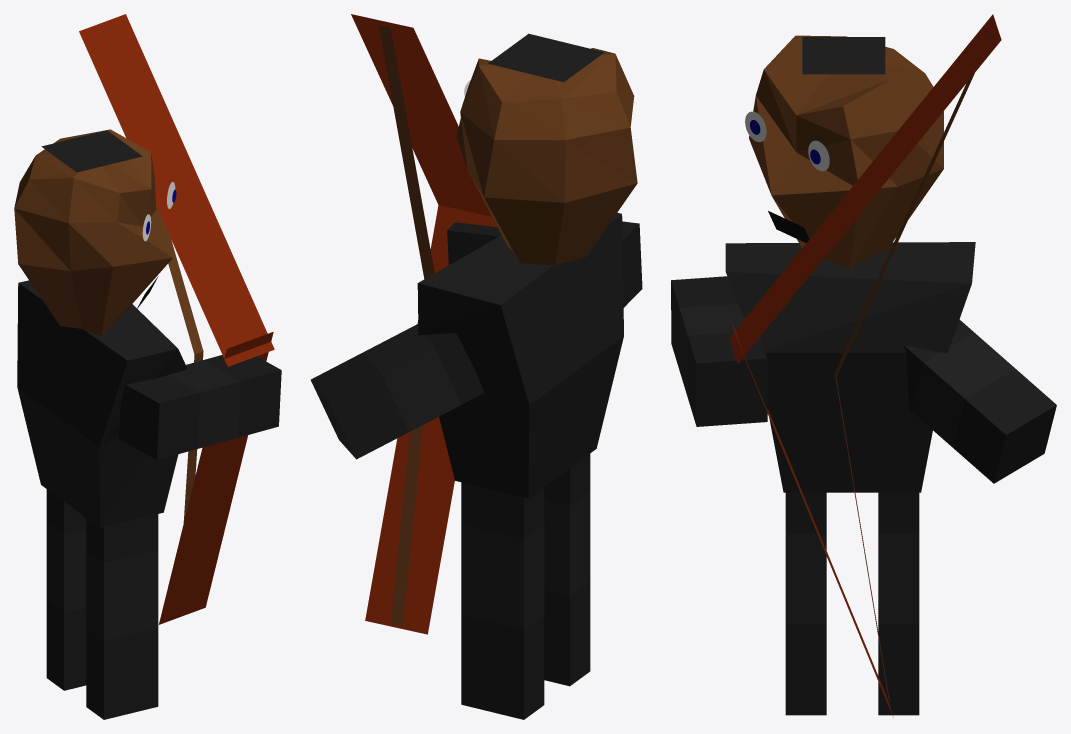
The model's file is heavyarcher3f.obj.
3 renders of one model, left to right at view 1: azimuth 30°, elevation 25°; view 2: azimuth 150°, elevation 25°; view 3: azimuth 270°, elevation 25°, orthographic. The views are drawn at different scales.
Parts seen in each view (by area): view 1: Cube.001, Cube, Plane.002_Plane.003, Cube.004, Cube.003, Plane.001_Plane.002, Cube.005, Plane.004_Plane.001, Plane.003_Plane.004; view 2: Cube.001, Cube, Cube.005, Cube.002, Plane.001_Plane.002, Cube.004, Plane.002_Plane.003, Plane.003_Plane.004, Plane.004_Plane.001, Cube.003; view 3: Cube.001, Cube, Cube.002, Cube.003, Plane.002_Plane.003, Cube.005, Cube.004, Plane.004_Plane.001, Plane.003_Plane.004, Plane.001_Plane.002.
Part boxes in pixels (x1,y1,x2,y2): Cube.001: (17,280,187,527); Cube: (14,129,172,335); Plane.002_Plane.003: (79,14,274,366); Cube.004: (86,514,158,719); Cube.003: (119,355,281,459); Plane.001_Plane.002: (159,332,273,624); Cube.005: (46,489,86,690); Plane.004_Plane.001: (41,130,142,172); Plane.003_Plane.004: (102,30,203,522); Cube.001: (417,212,623,498); Cube: (456,48,637,265); Cube.005: (461,482,544,719); Cube.002: (311,324,484,459); Plane.001_Plane.002: (365,205,497,634); Cube.004: (544,454,590,686); Plane.002_Plane.003: (351,14,491,216); Plane.003_Plane.004: (379,25,434,625); Plane.004_Plane.001: (488,33,604,82); Cube.003: (447,221,642,307); Cube.001: (725,242,975,492); Cube: (749,35,943,268); Cube.002: (903,319,1056,483); Cube.003: (671,276,767,426); Plane.002_Plane.003: (729,14,1001,363); Cube.005: (878,492,919,715); Cube.004: (785,492,826,715); Plane.004_Plane.001: (802,37,885,74); Plane.003_Plane.004: (835,33,990,704); Plane.001_Plane.002: (730,319,893,717).
Bounding box in the file's own units: 2.42 × 6.6 × 3.26.
